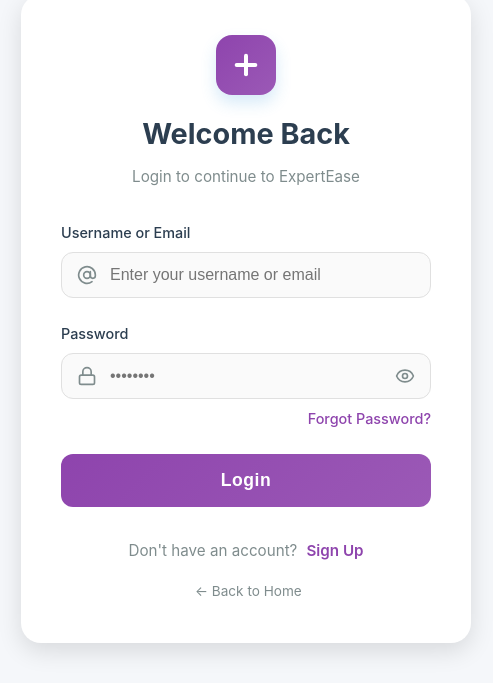
Simple Login Flow › displays error message on failed login
Type "wrong" into the field labelled "Username or Email" at x=246, y=275, box [61,252,431,298]
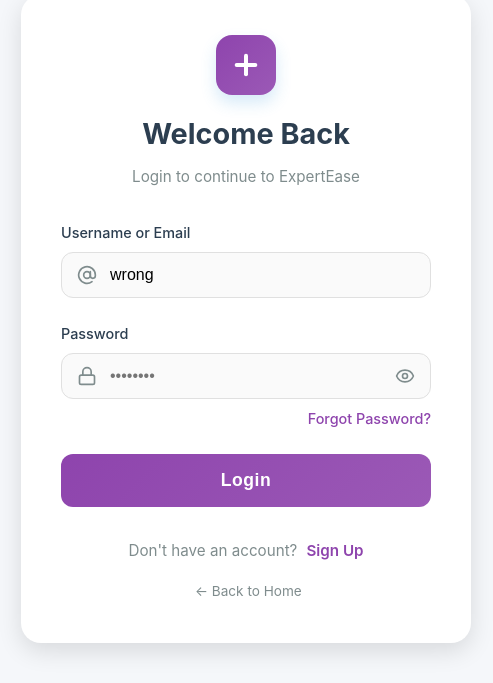
Type "wrong" into the password field labelled "Password" at x=246, y=376, box [61,353,431,399]
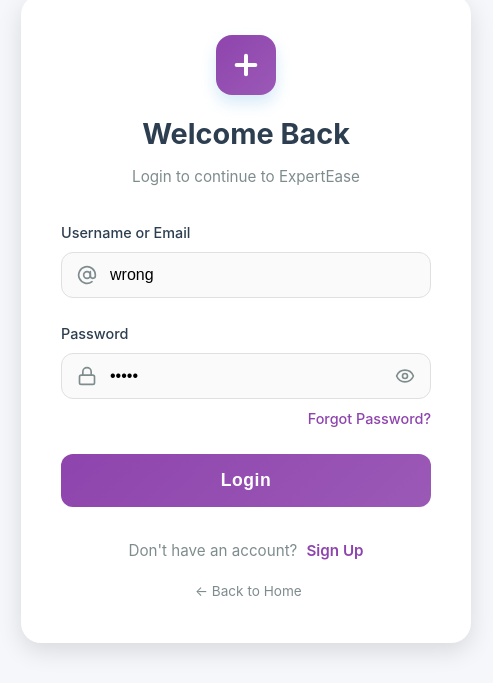
Click the button "Login" at x=246, y=480, box [61,454,431,507]
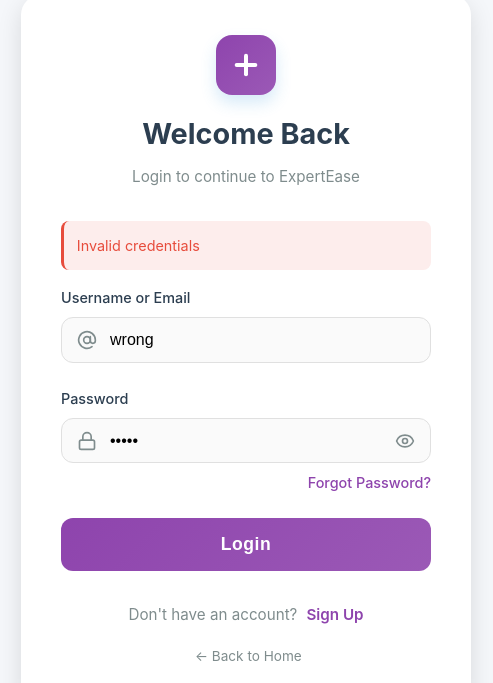
Check: the text "Invalid credentials" is shown, box [61,221,431,270]
